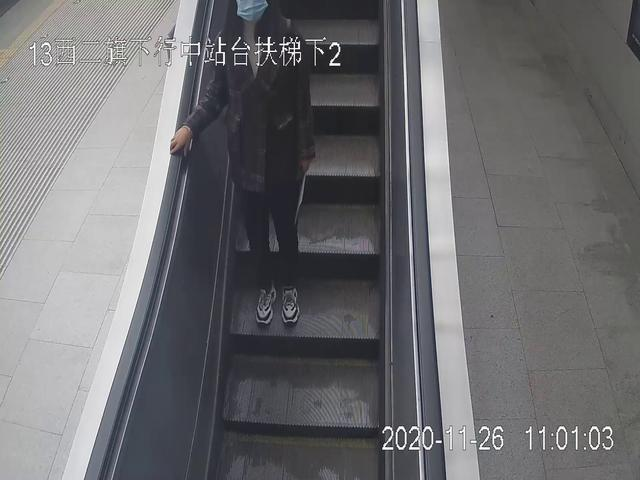person: (170, 1, 315, 328)
